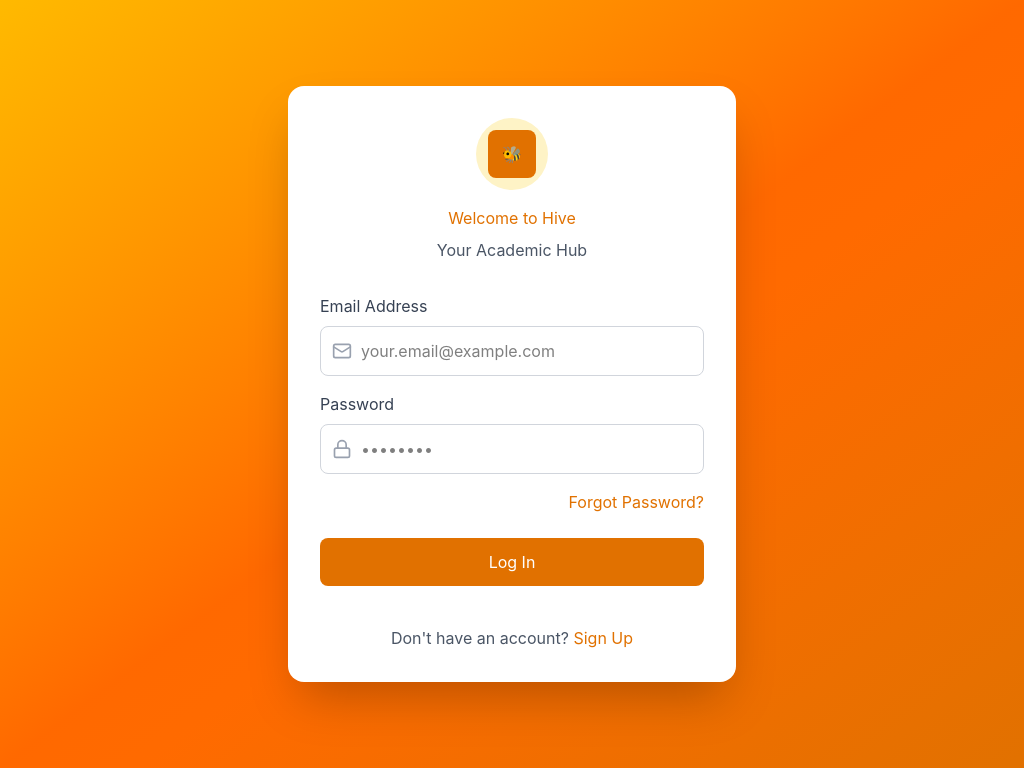
Test case: LoginPage Component › Sign Up Flow › should switch to sign up form when clicking sign up link
The image size is (1024, 768).
What coordinates should you click on to do the following:
click the button "Sign Up"
I would click on:
 (603, 638)
Its box is [573, 626, 633, 650].
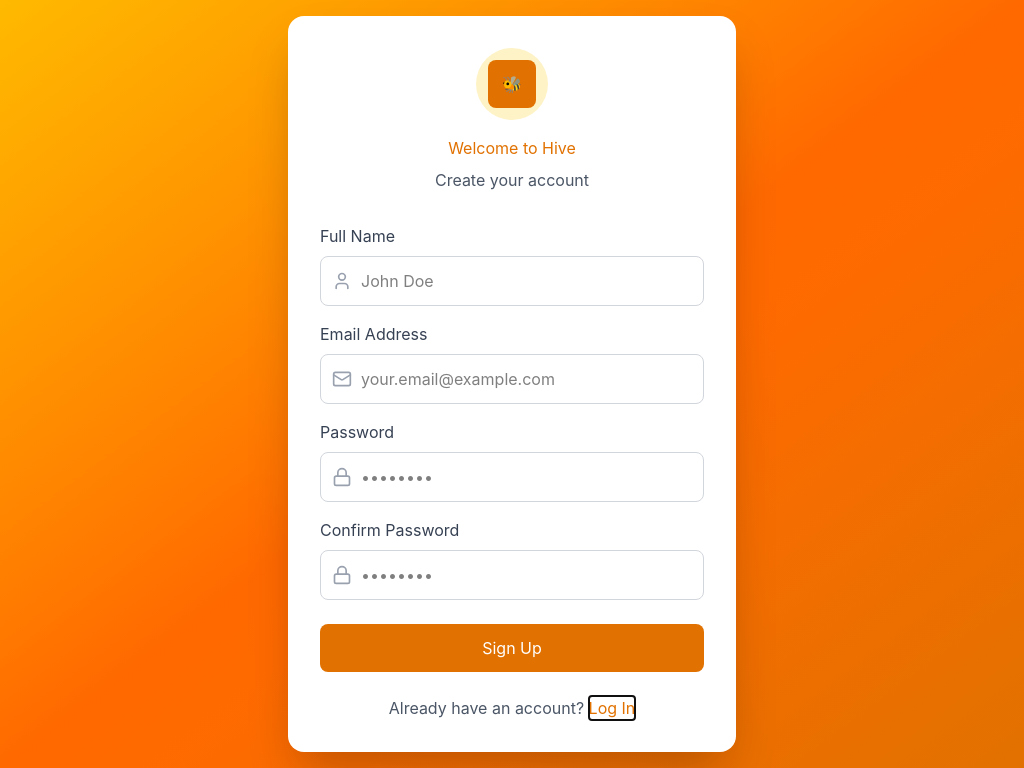
Expected: the field labelled "Full Name" is shown, [320, 256, 704, 306]
Result: the text "Create your account" is shown at [435, 170, 589, 190]
Result: the password field labelled "Confirm Password" is shown at [320, 550, 704, 600]
